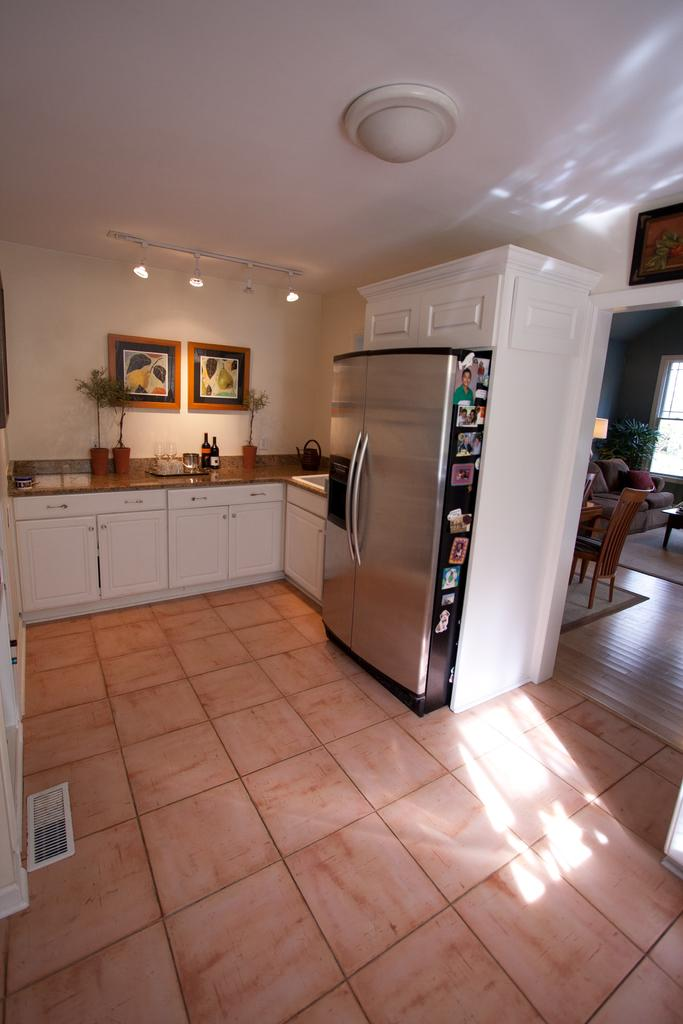cabinet_door: (17, 519, 97, 600), (100, 508, 162, 590), (226, 505, 282, 582), (172, 504, 229, 572), (31, 490, 162, 518), (174, 478, 280, 509), (286, 511, 326, 586)
handle: (354, 441, 372, 572), (343, 436, 358, 564)
